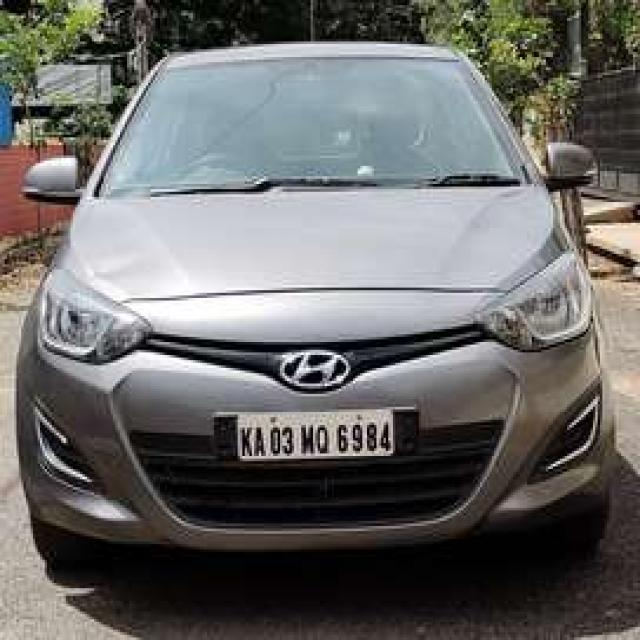Plate: (234, 410, 392, 457)
